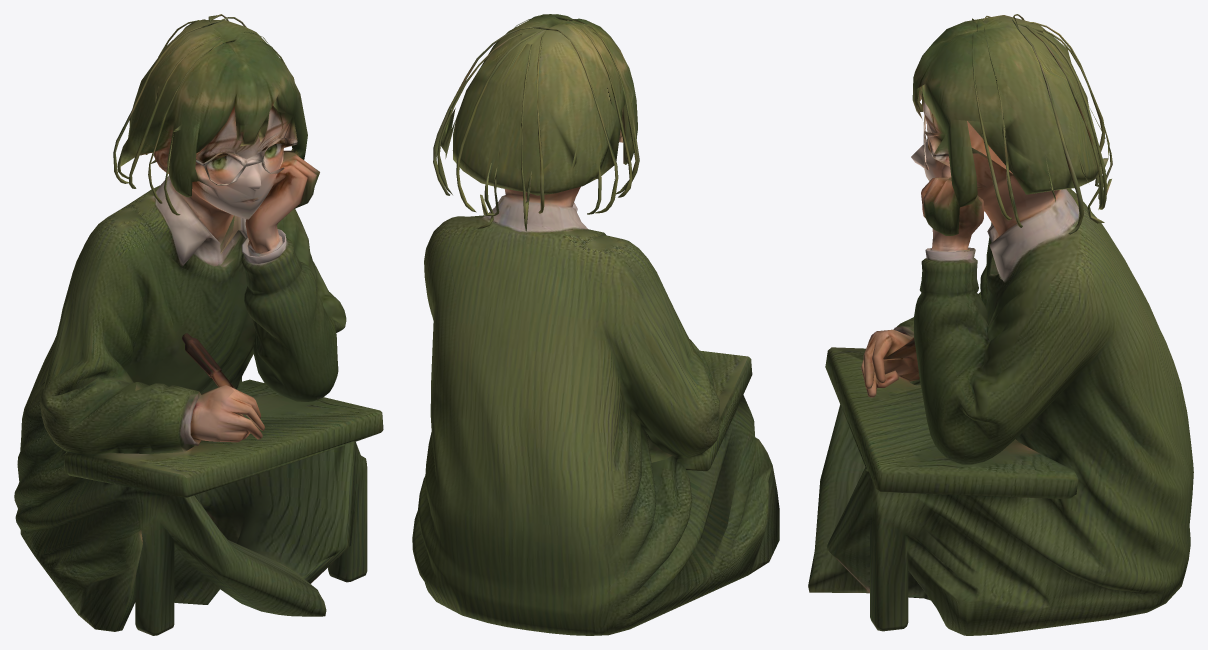
3 views of the same model, side by side, from view 1: azimuth 30°, elevation 25°; view 2: azimuth 150°, elevation 25°; view 3: azimuth 270°, elevation 25° (orthographic). The views are drawn at different scales.
Parts seen in each view (by area): view 1: material; view 2: material; view 3: material.
Boxes of the visible parts, bbox=[...] form: material: bbox=[14, 14, 383, 635]; material: bbox=[412, 14, 779, 635]; material: bbox=[808, 14, 1193, 635].
Bounding box in the file's own units: 1.1 × 1.9 × 1.18.
1 material, 1 textured.
